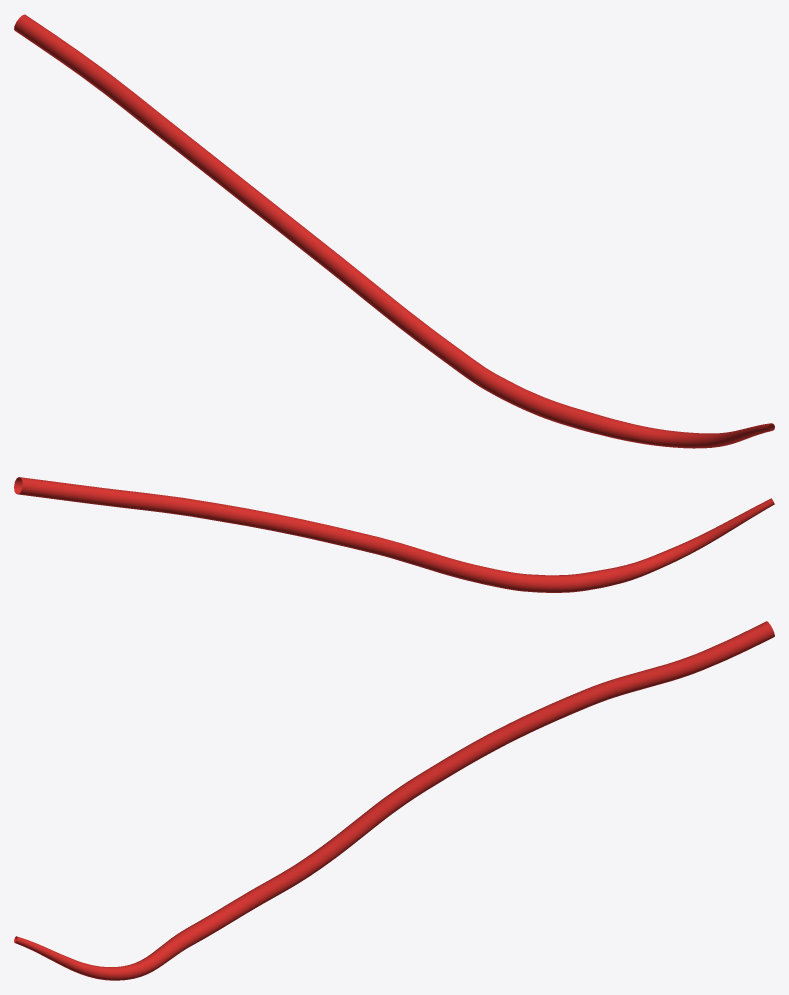
File: circulatorio-submental-vein-l.glb
3 views of the same model, one above another, from view 1: azimuth 90°, elevation 25°; view 2: azimuth 150°, elevation 25°; view 3: azimuth 330°, elevation 25° (orthographic). The views are drawn at different scales.
Visible parts, largest first — view 1: Submental vein.l; view 2: Submental vein.l; view 3: Submental vein.l.
Boxes of the visible parts, box(x1,y1,x2,y2) form: Submental vein.l: box(14, 14, 774, 448); Submental vein.l: box(14, 477, 774, 592); Submental vein.l: box(14, 621, 774, 980).
Bounding box in the file's own units: 0.0276 × 0.014 × 0.0388.
